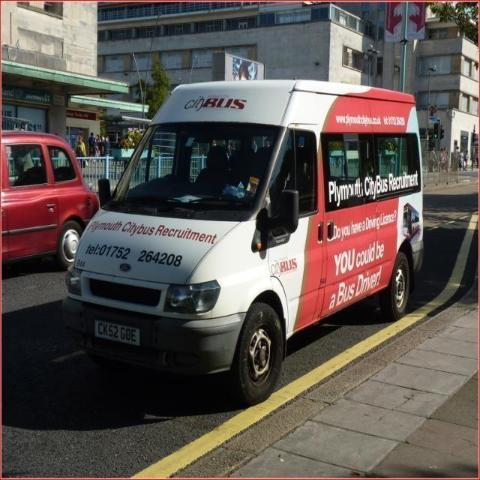car: (1, 131, 101, 272)
van: (62, 80, 427, 406)
